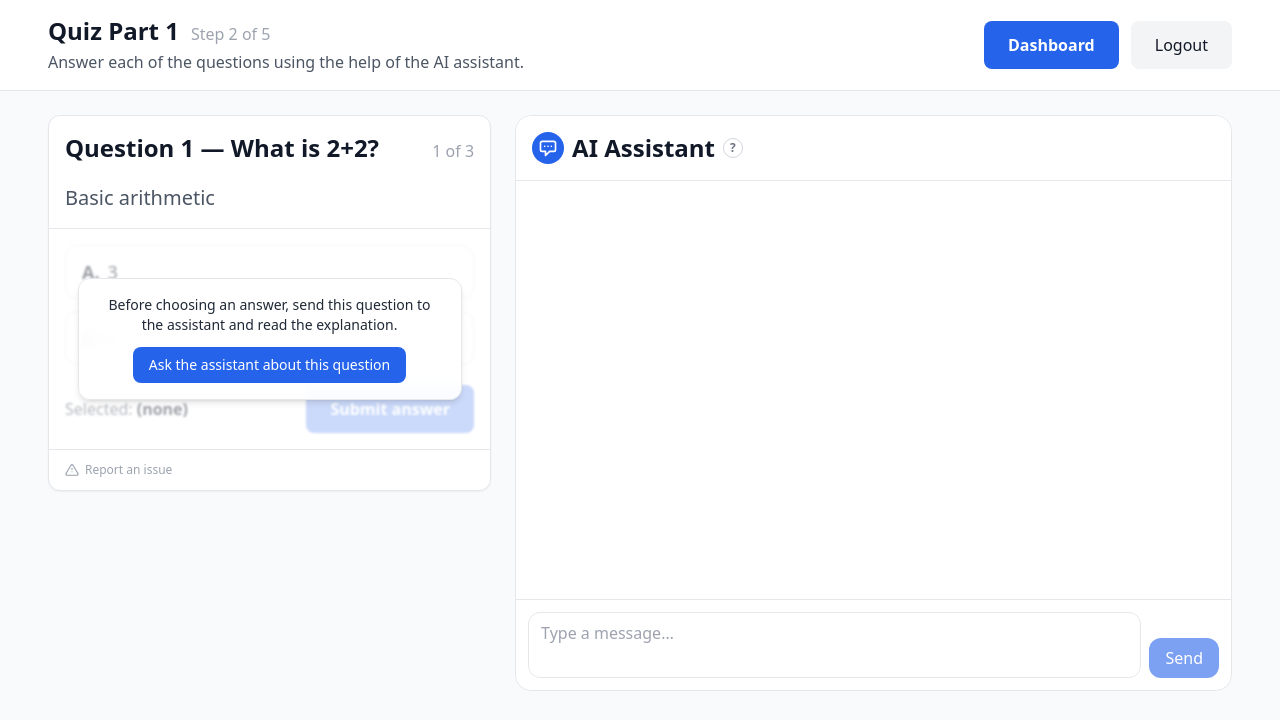
Test: QuizPage ([quiz_id]) › disables the submit report button until a description is entered
Expected: the heading "Question 1 — What is 2+2?" is shown, [65,132,379,164]
Click the button "Report an issue" at (129, 470), box [49,450,490,490]
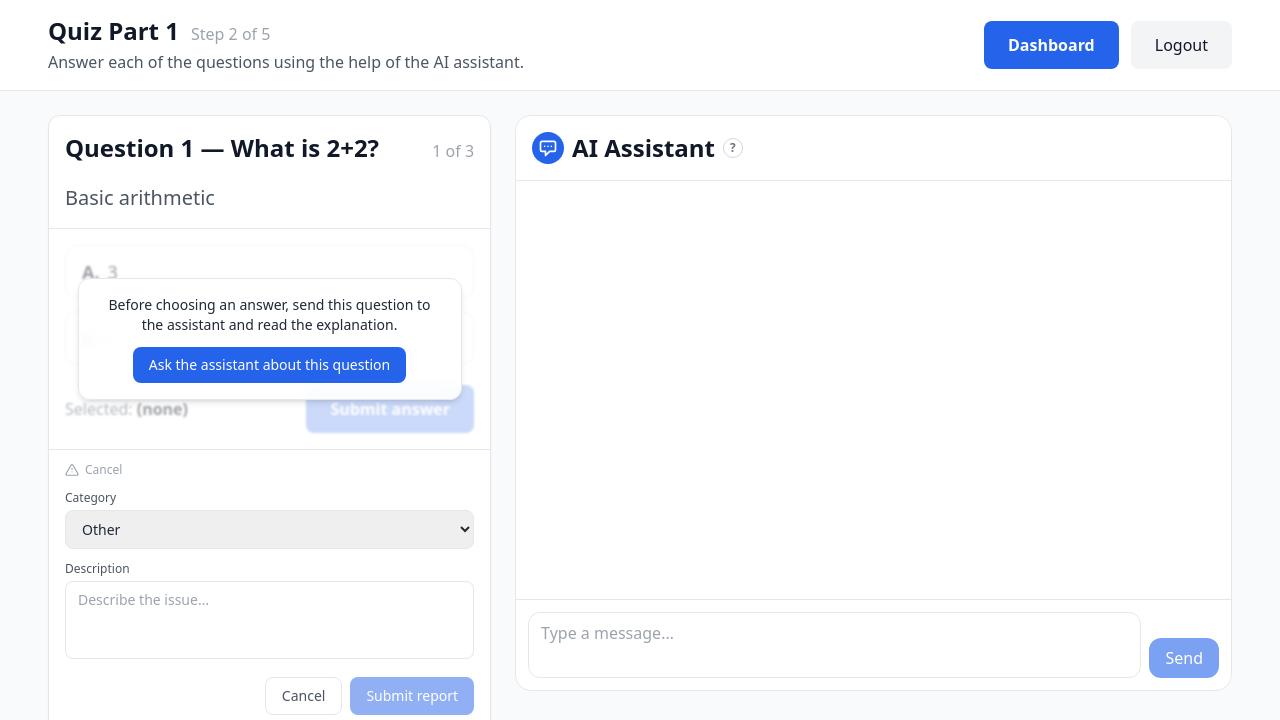
Result: the button "Submit report" is disabled at [350,677,474,715]
Type "Broken choice" into the text box with placeholder "Describe the issue…" at (270, 620), box [65,581,474,659]
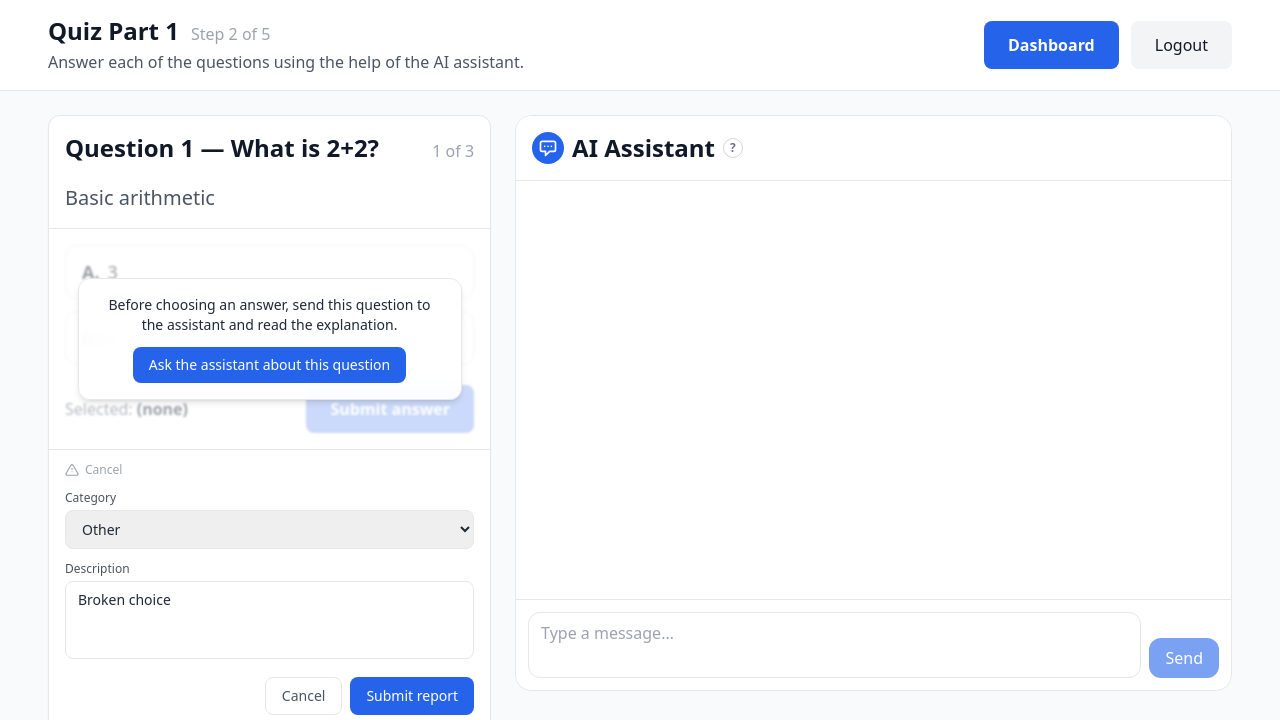
Result: the button "Submit report" is enabled at [350,677,474,715]
